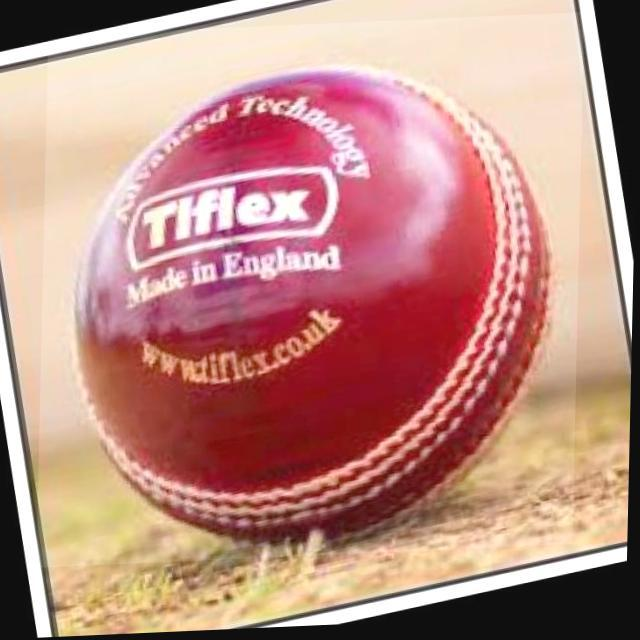-: (39, 18, 584, 568)
